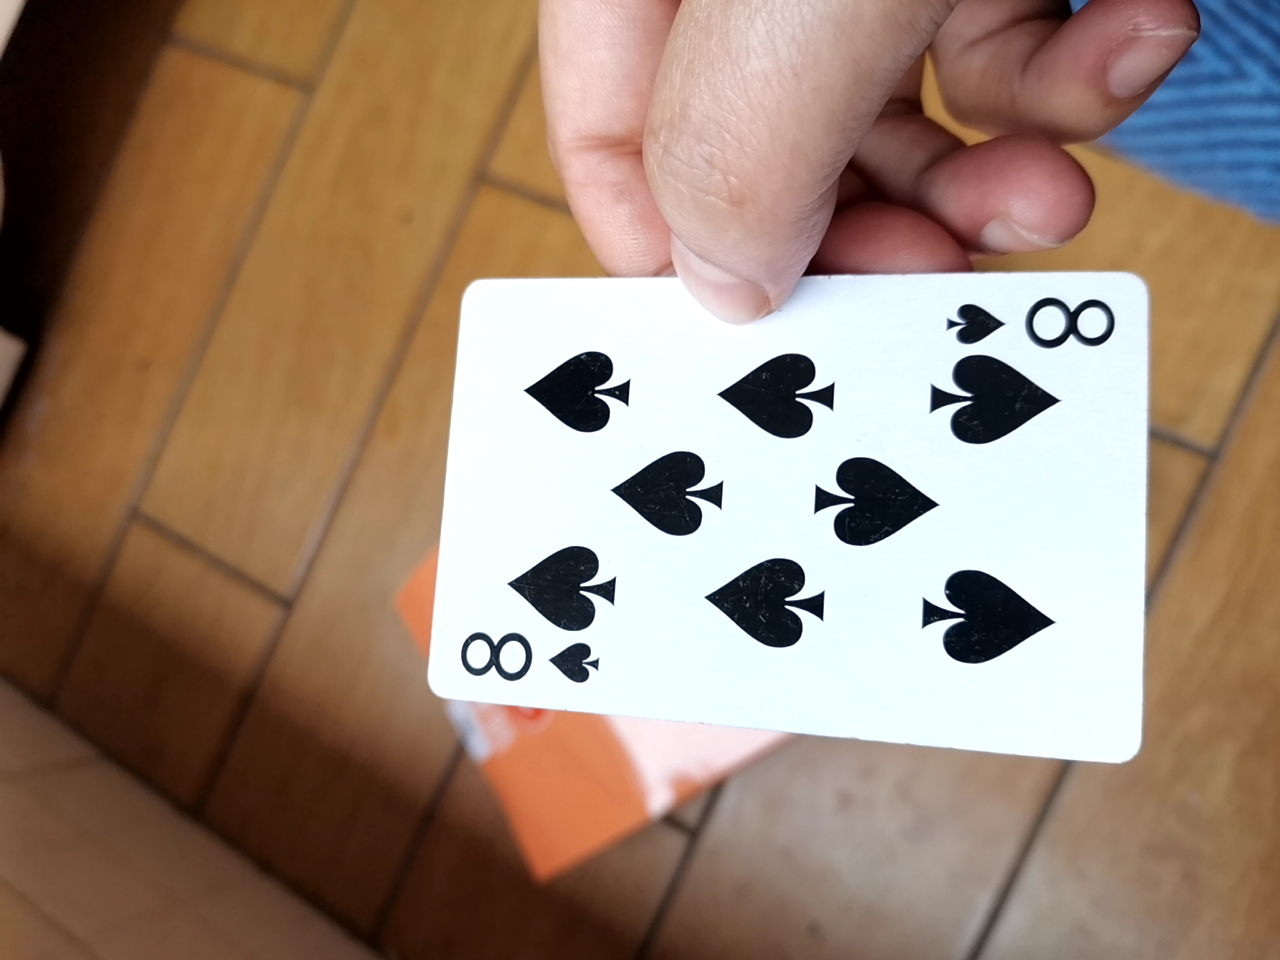ht 8: (397, 255, 1155, 773)
